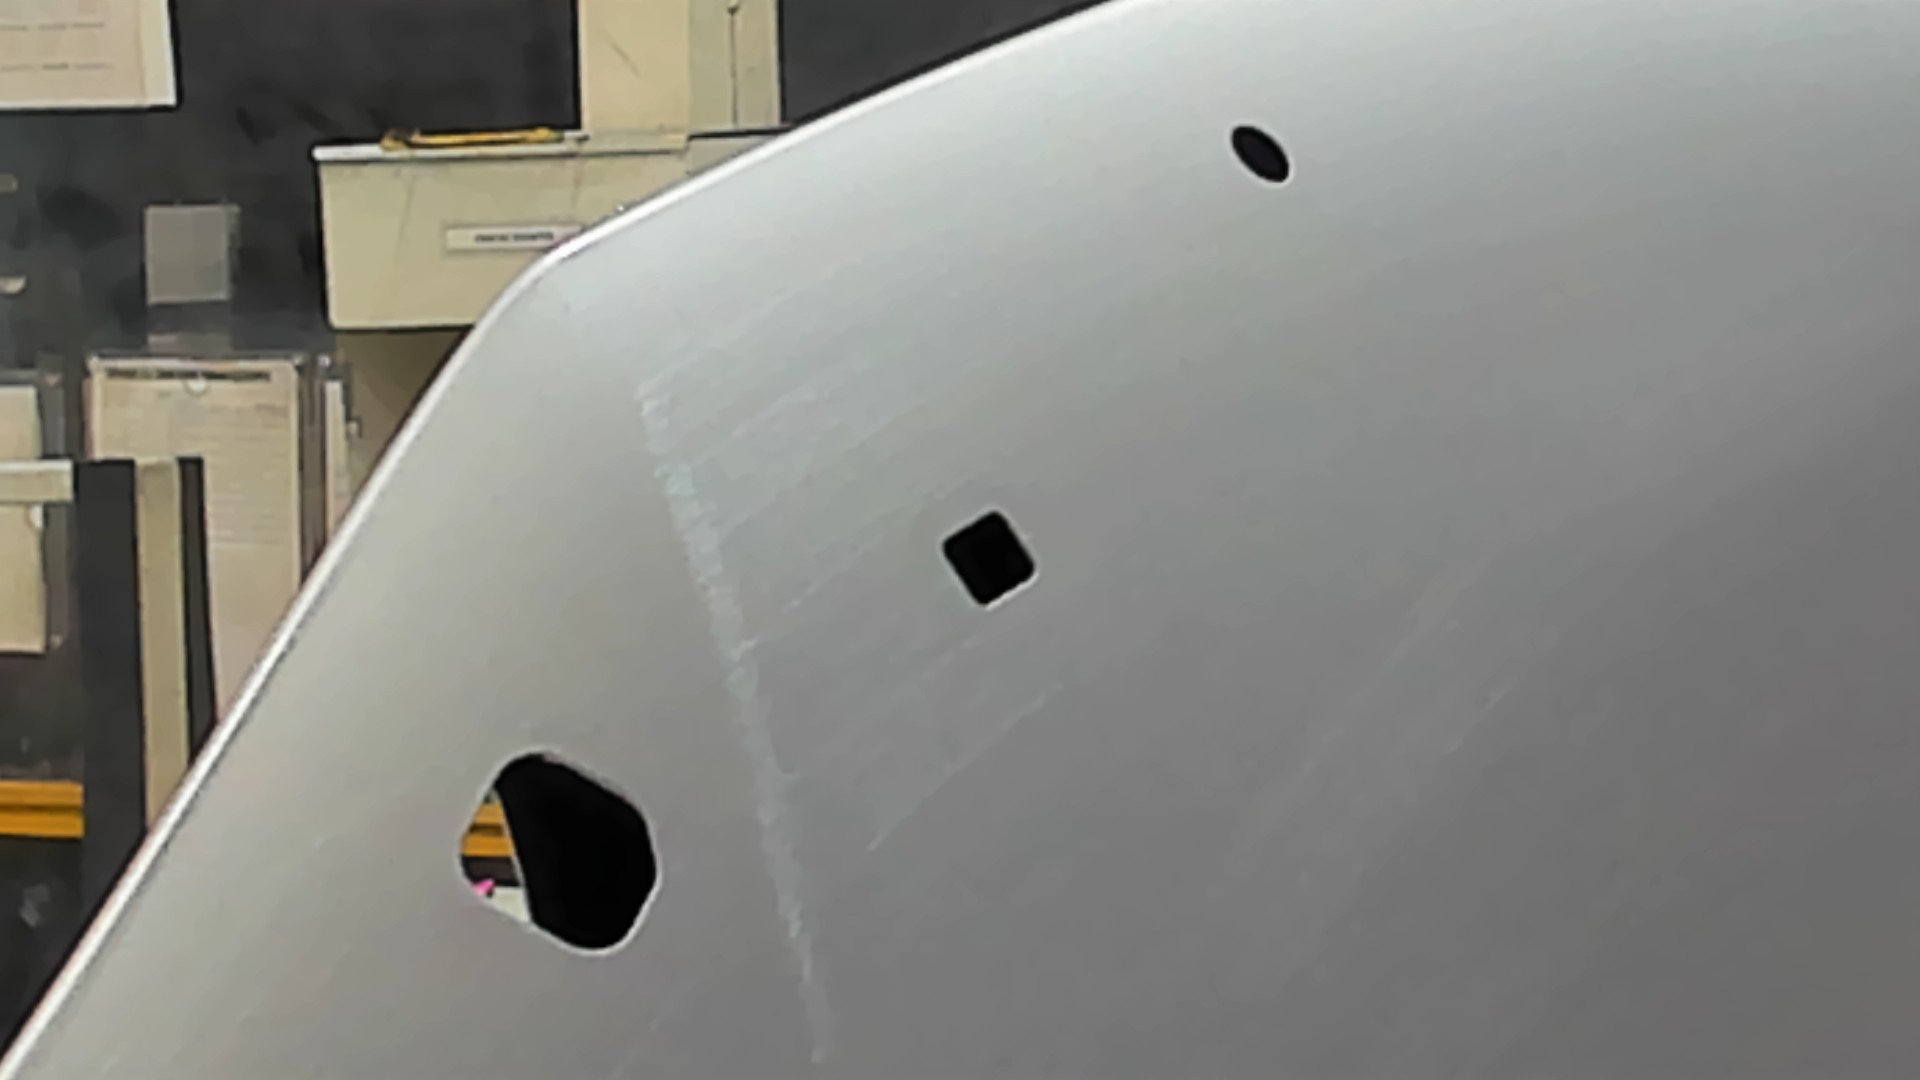Agujero: (942, 509, 1036, 611), (1226, 124, 1288, 182)
Agujerote: (458, 750, 663, 955)
